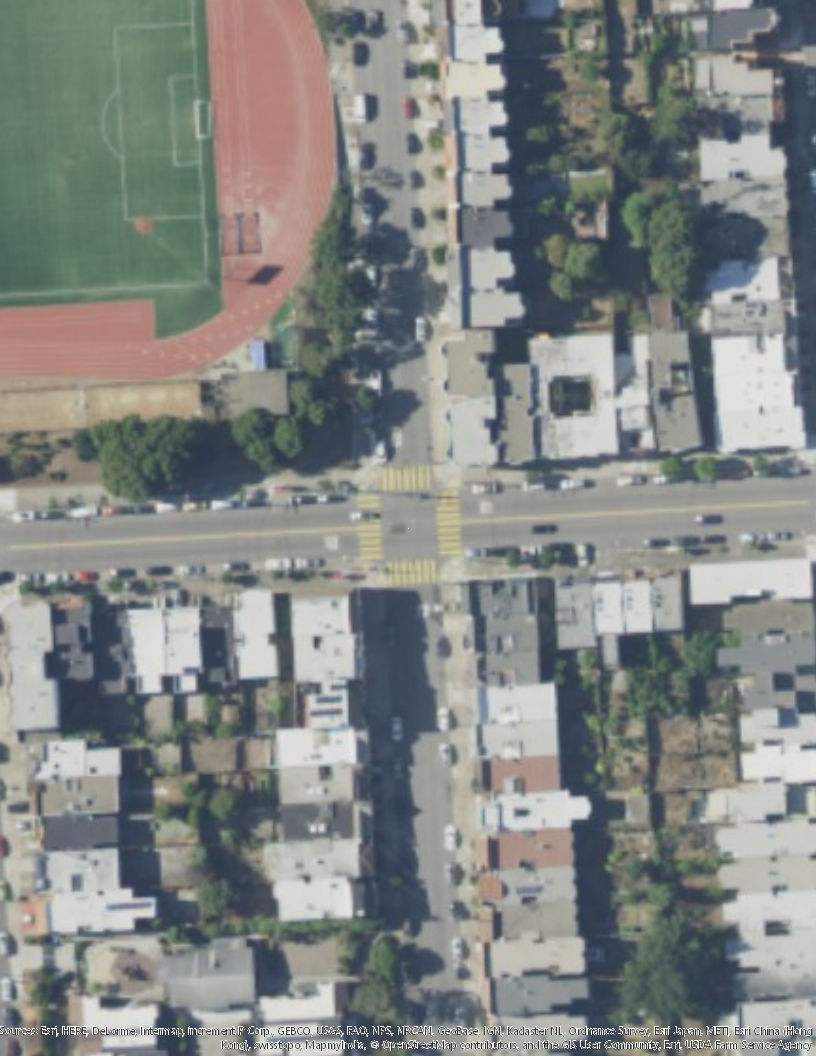zebracross: (433, 490, 464, 554), (355, 494, 382, 566), (377, 463, 430, 493), (392, 558, 440, 587)
